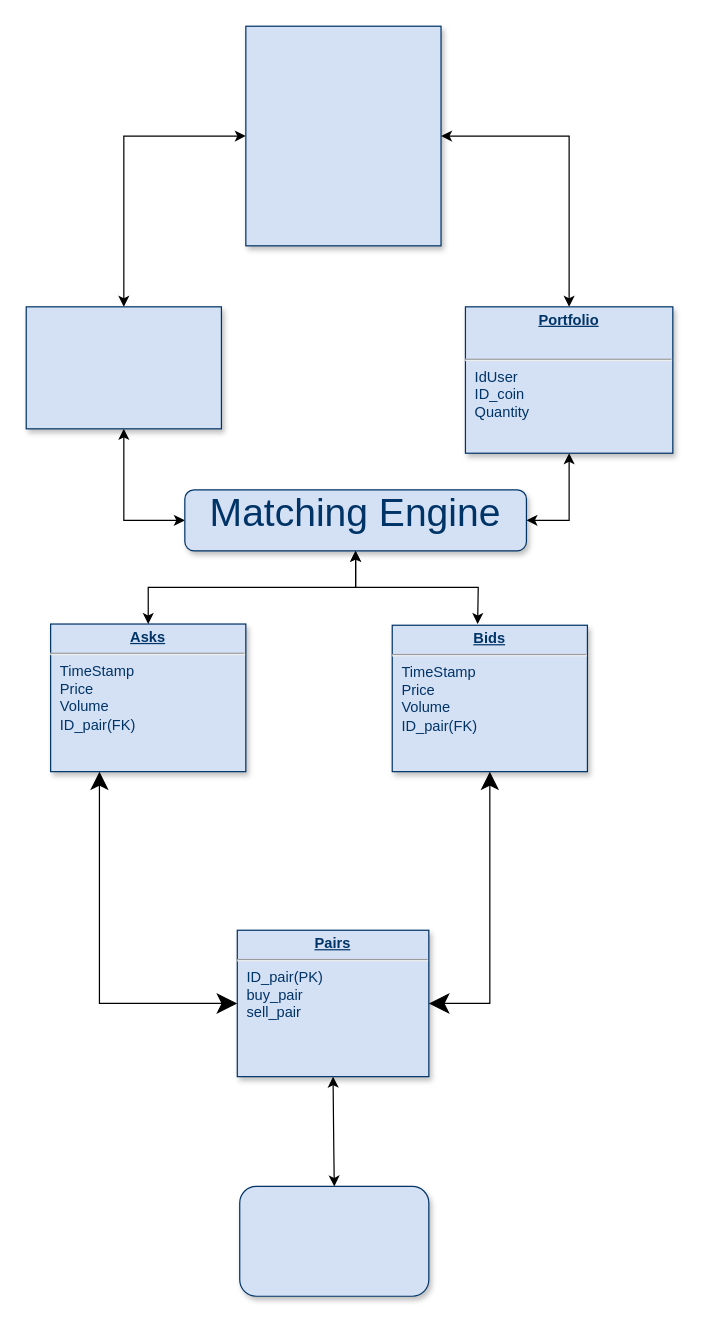
Some shapes in this 702 by 1326 pixel diagram are drawn without their labels. Each missing label, with the centre of its shape:
"API BitStamp Kraken" goes at point 335,1242.
"UserBids IdUser ID_pair(FK) Quantity Price" goes at point 124,369.
"Users IdUser Name Email UserName Password CreatedAt UpdatedAt Enable" goes at point 344,137.
